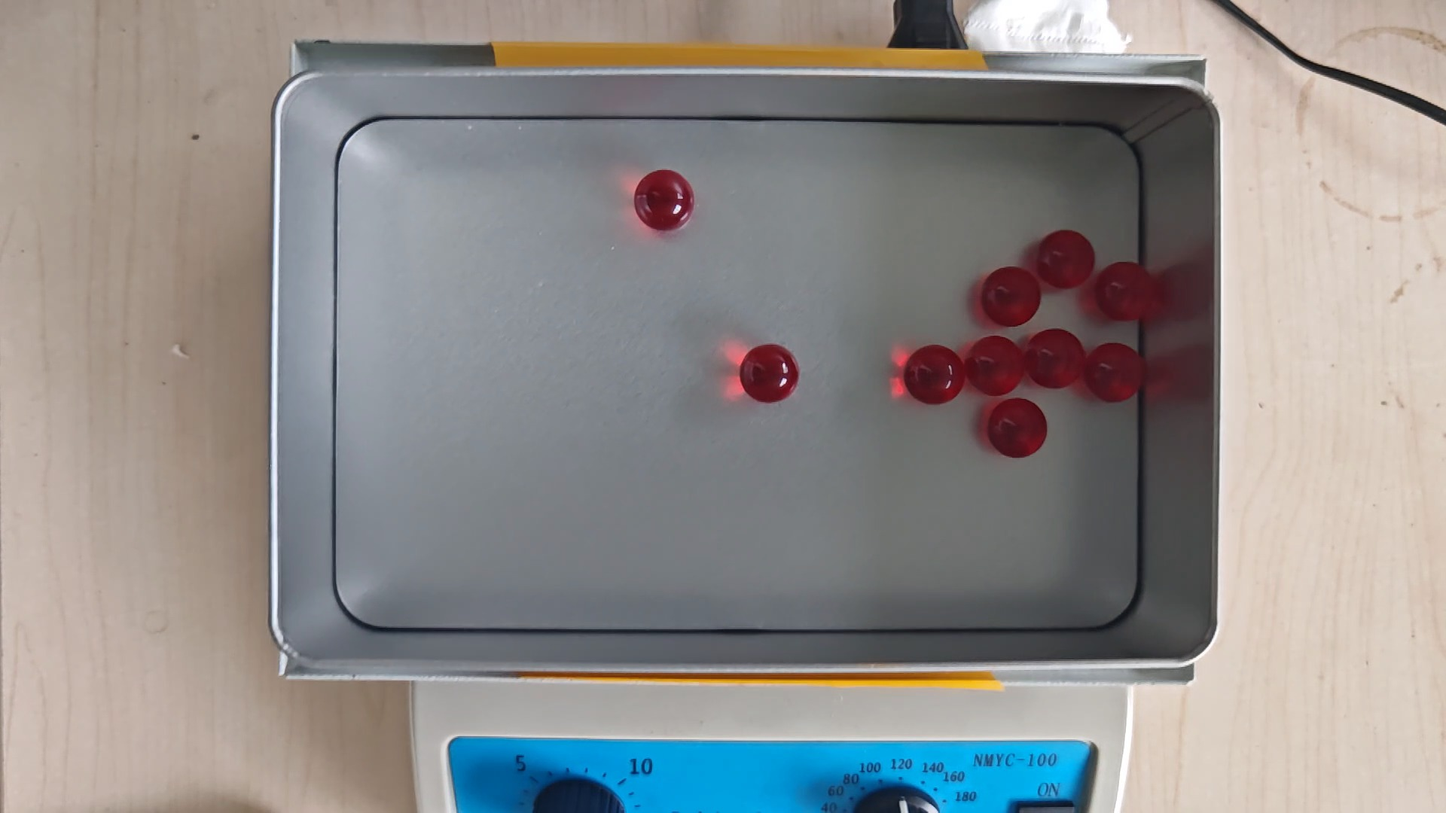ball: (987, 398, 1048, 459), (634, 169, 694, 231), (905, 344, 965, 405), (1085, 342, 1144, 404), (1036, 230, 1096, 290), (740, 343, 799, 404), (1026, 329, 1085, 390), (1096, 261, 1155, 321), (982, 267, 1041, 327), (967, 336, 1025, 397)
container: (334, 119, 1140, 631)
